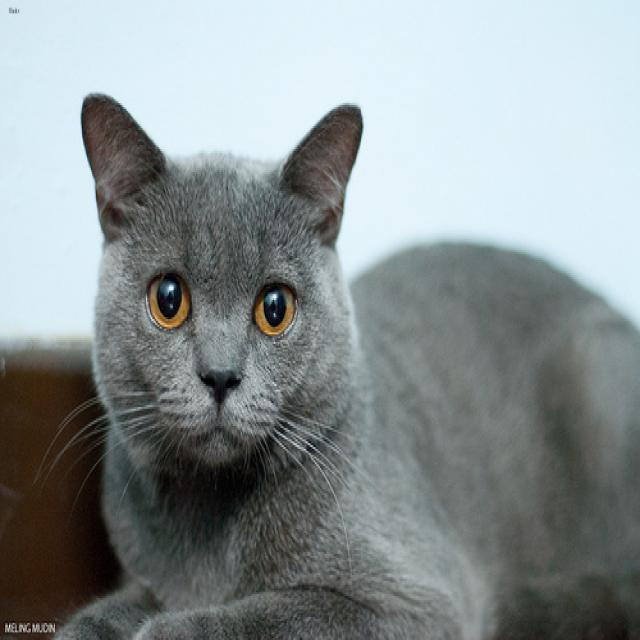British_Shorthair: (78, 102, 361, 463)
